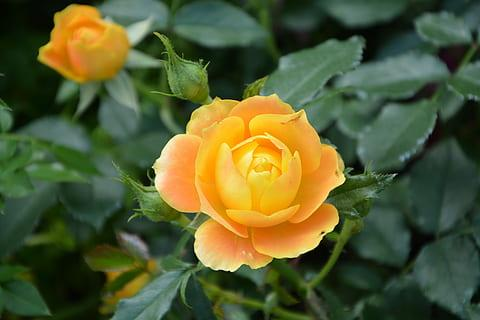Rose: (147, 86, 341, 270), (34, 4, 148, 84)
